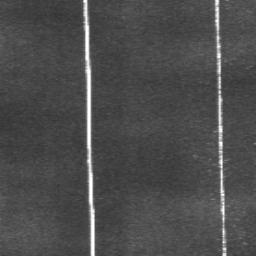Bright scratch: (83, 0, 95, 256), (215, 0, 227, 256)
